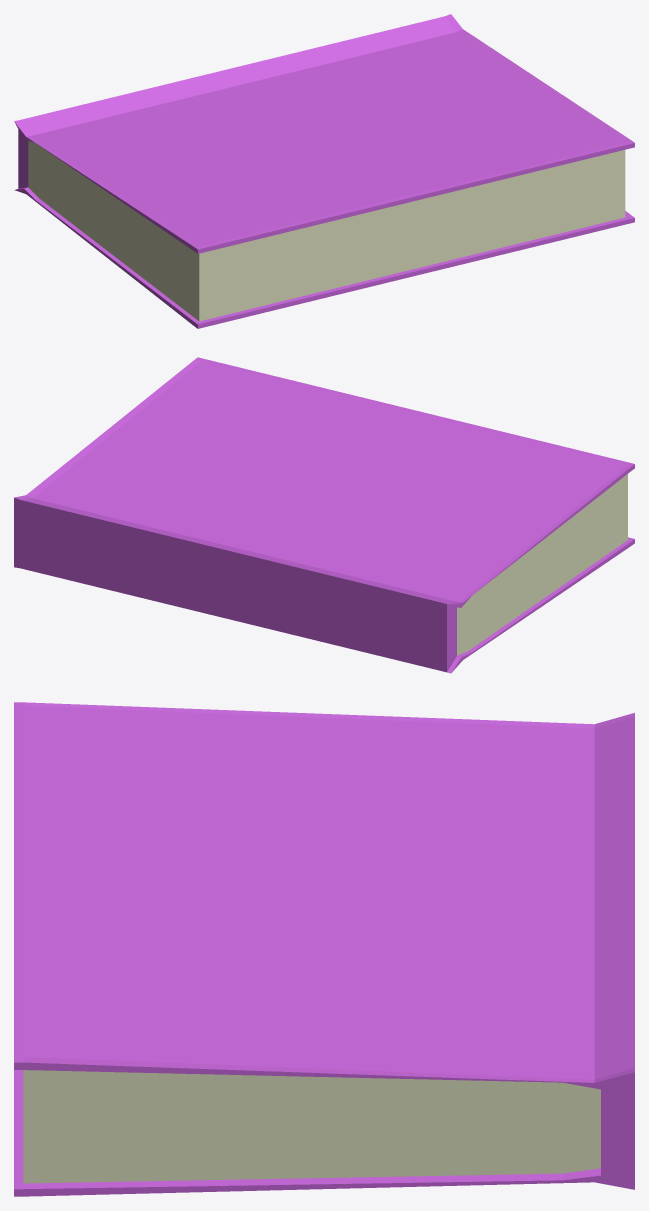
File: purple book.fbx
3 views of the same model, one above another, from view 1: azimuth 30°, elevation 25°; view 2: azimuth 150°, elevation 25°; view 3: azimuth 270°, elevation 25° (orthographic). The views are drawn at different scales.
Visible parts, largest first — view 1: Cube.005; view 2: Cube.005; view 3: Cube.005.
Part boxes in pixels (x1=…): Cube.005: x1=14, y1=14, x2=634, y2=328; Cube.005: x1=14, y1=357, x2=634, y2=673; Cube.005: x1=14, y1=702, x2=634, y2=1196.
Bounding box in the file's own units: 1086 × 188 × 791.
